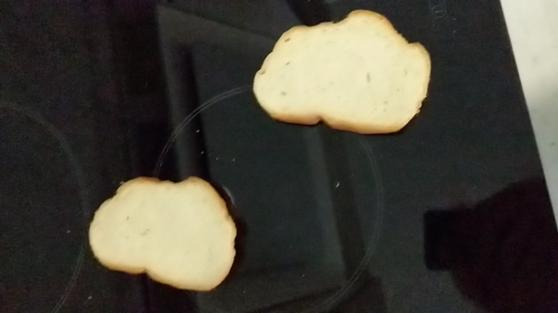white_bread: (252, 9, 432, 134), (89, 172, 238, 290)
